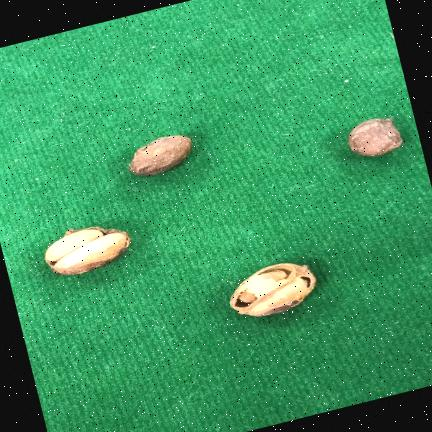husk: (230, 263, 316, 316), (55, 233, 128, 273), (129, 135, 191, 176), (348, 118, 402, 156)
